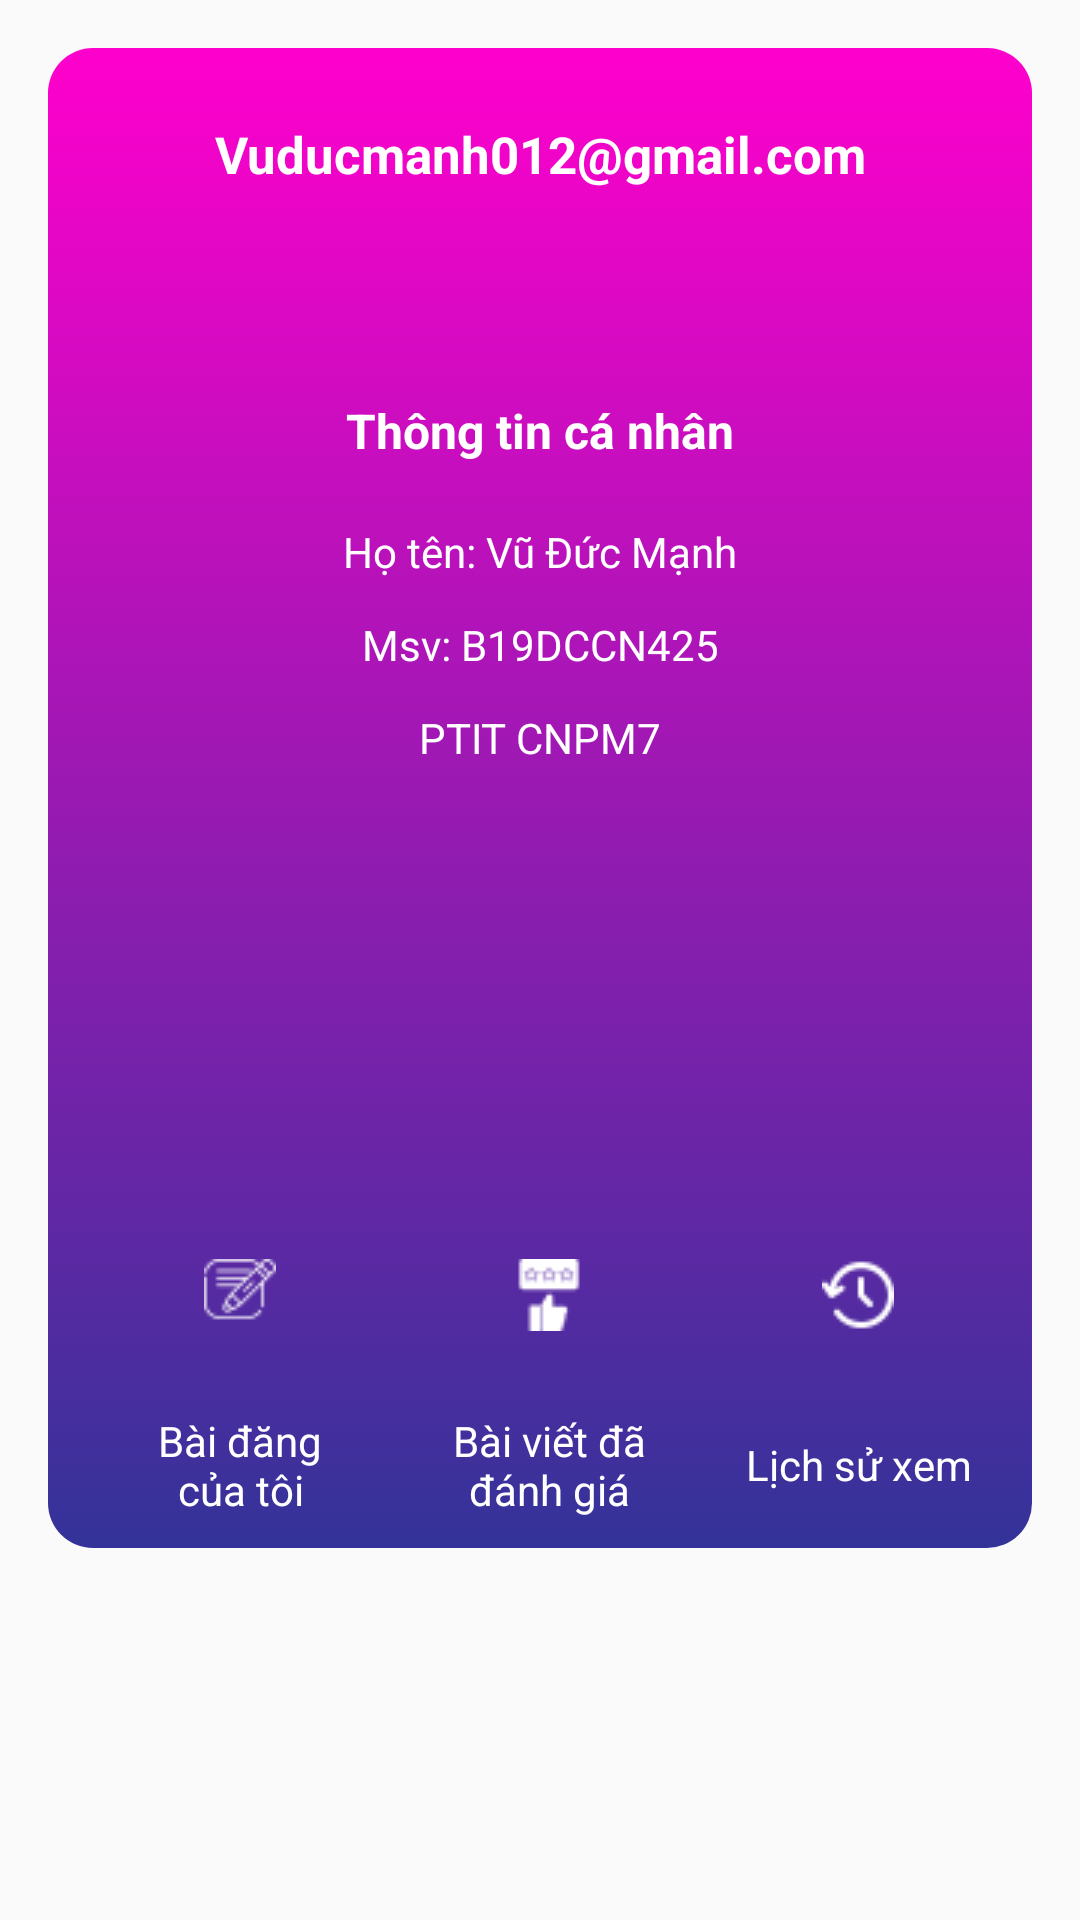

Named icons in this screenshot (1080x1920) and their bounding boxes, (x1, y1, x2, y2):
history: (822, 1261, 894, 1329)
rating: (518, 1259, 580, 1331)
writing: (204, 1259, 276, 1320)
